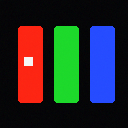1 square: (24, 57, 32, 65)
